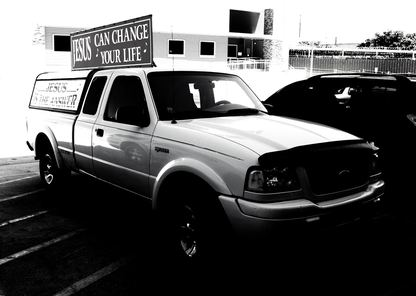car: (261, 72, 416, 161)
truck: (25, 15, 386, 274)
